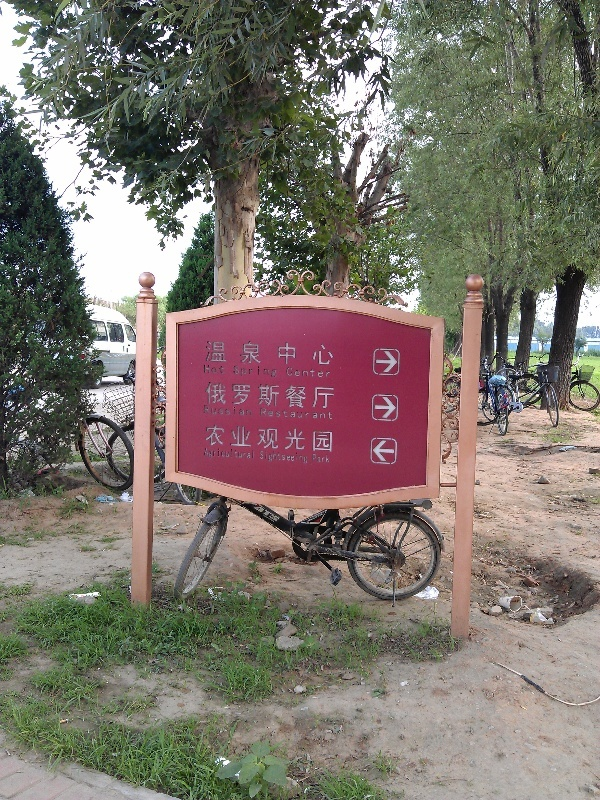text: (321, 381, 337, 411), (209, 381, 224, 411), (225, 381, 240, 411), (241, 381, 256, 411), (257, 381, 272, 411), (273, 381, 288, 411), (289, 381, 304, 411), (305, 381, 320, 411), (209, 339, 224, 367), (225, 339, 240, 367), (241, 339, 256, 367), (257, 339, 272, 367), (273, 339, 288, 367), (289, 339, 304, 367), (305, 339, 320, 367), (209, 424, 224, 452), (225, 424, 240, 452), (241, 424, 256, 452), (257, 424, 272, 452), (273, 424, 288, 452), (289, 424, 304, 452), (305, 424, 320, 452), (321, 339, 335, 367), (321, 424, 334, 452), (257, 502, 272, 525), (209, 447, 224, 462), (225, 447, 240, 462), (273, 407, 288, 422), (289, 407, 304, 422), (305, 407, 320, 422), (241, 447, 255, 462), (321, 407, 335, 422), (273, 450, 288, 464), (289, 450, 304, 464), (209, 405, 224, 418), (225, 405, 240, 418), (241, 365, 256, 378), (257, 365, 272, 378), (273, 502, 281, 525), (289, 367, 304, 379), (305, 367, 320, 379), (260, 407, 272, 422), (241, 405, 254, 418), (260, 450, 272, 464), (209, 364, 224, 375), (204, 381, 208, 411), (321, 367, 331, 379), (321, 453, 330, 464), (233, 365, 240, 378), (273, 365, 279, 378), (313, 453, 320, 464), (203, 405, 208, 418), (206, 339, 208, 367), (206, 424, 208, 452), (305, 450, 309, 464), (205, 447, 208, 462), (204, 364, 208, 375), (225, 364, 226, 375)
